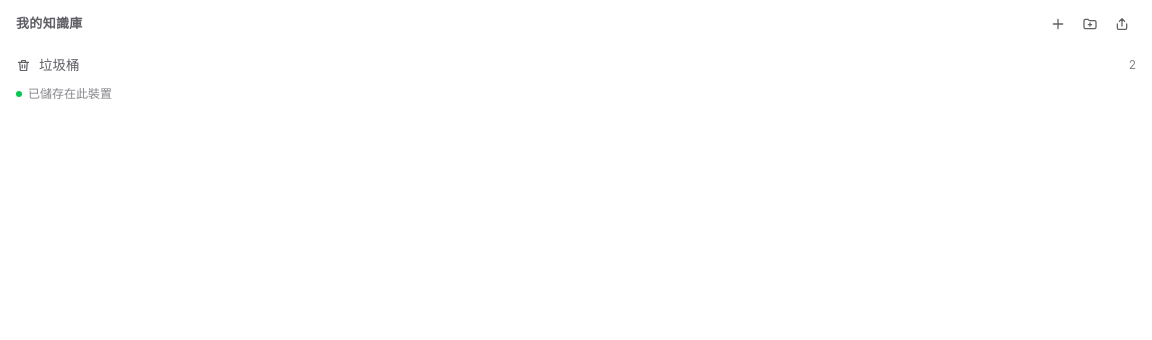
Test case: Attachments view › trashed attachments appear in the trash, count toward it, and restore or purge from there
This screenshot has width=1152, height=340.
Expected: the text "2" is shown, [1129, 57, 1136, 73]
Click the button "垃圾桶 2" at (59, 65), box [8, 50, 1144, 80]
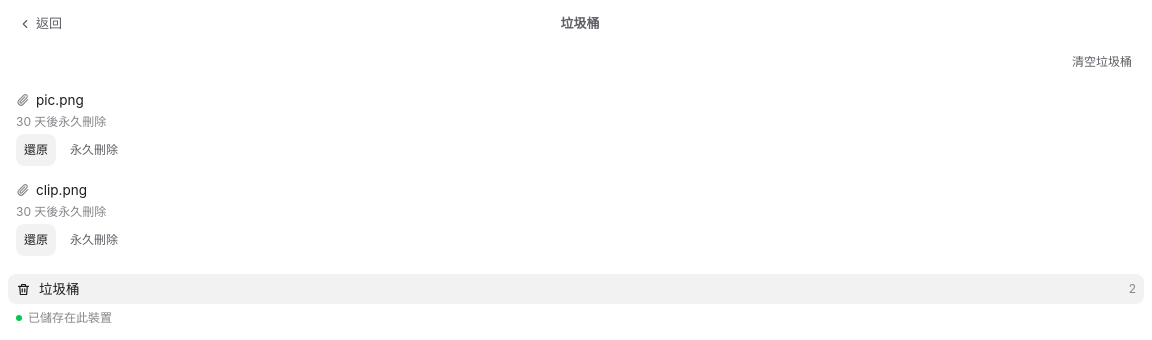
Click the button "還原" below "pic.png" at (36, 150), box [16, 134, 56, 166]
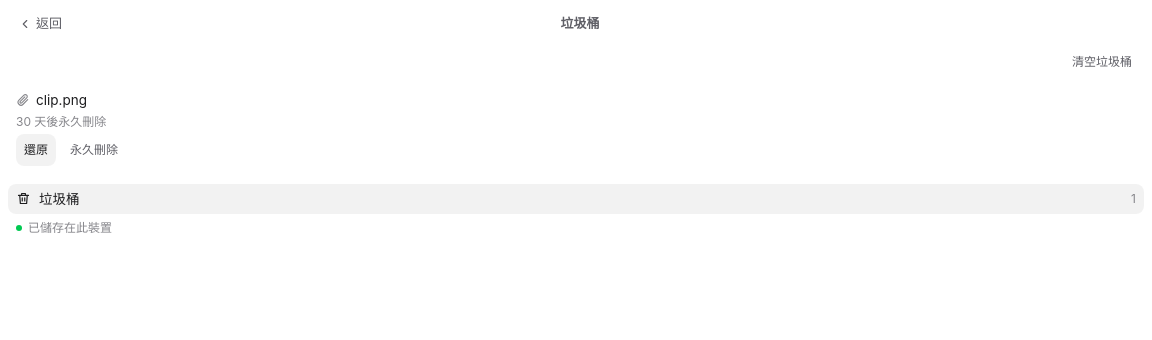
Click the button "永久刪除" at (94, 150), box [62, 134, 126, 166]
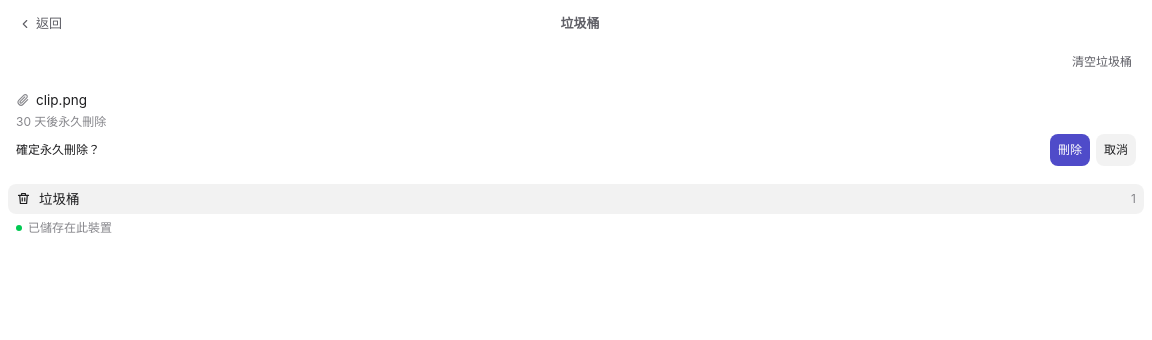
Click the button "刪除" at (1070, 150), box [1050, 134, 1090, 166]
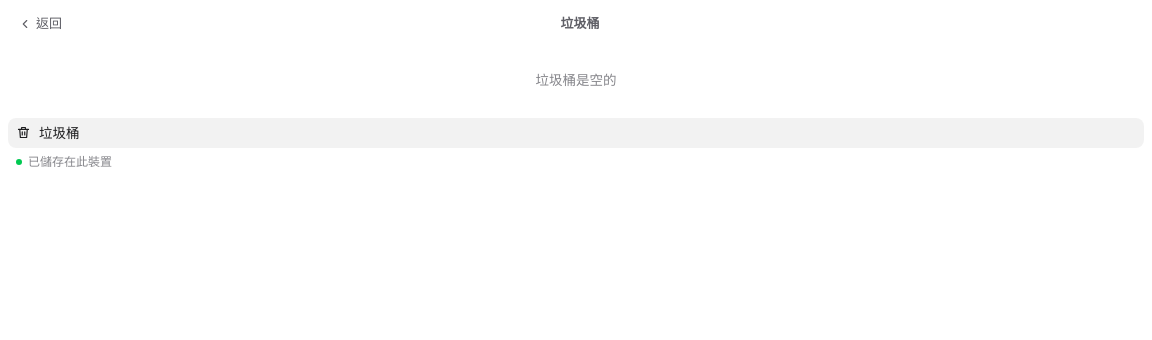
Expected: the text "垃圾桶是空的" is shown, [536, 72, 616, 88]
